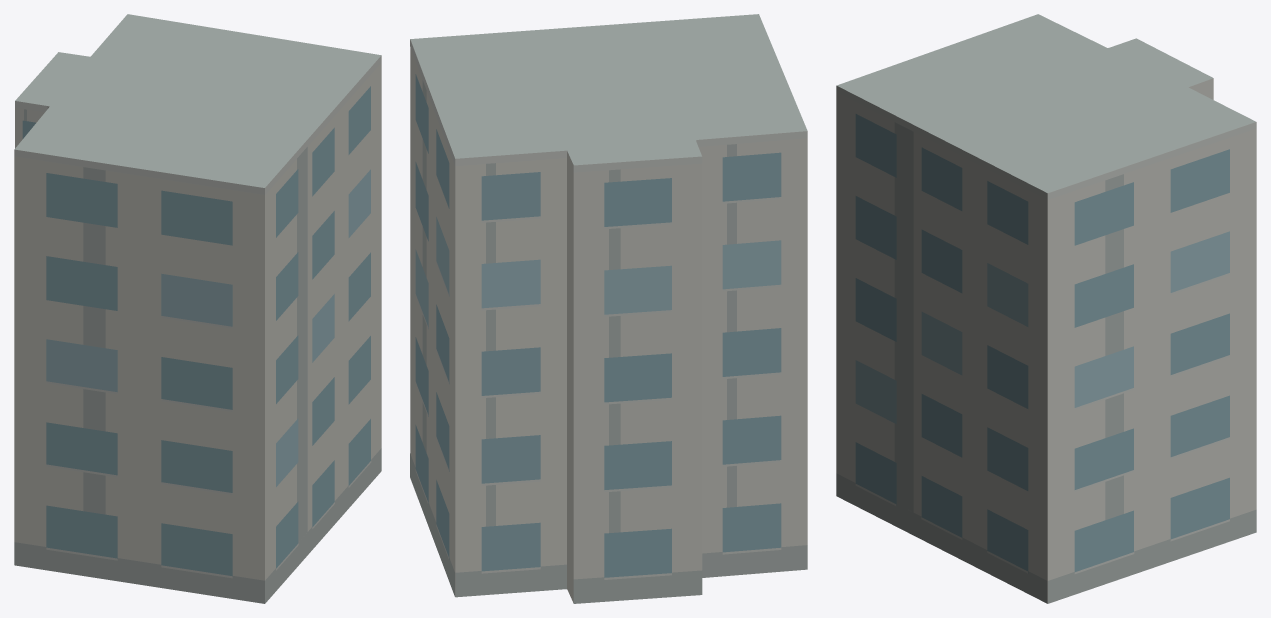
File: survey-upis-32679502.glb
3 views of the same model, side by side, from view 1: azimuth 30°, elevation 25°; view 2: azimuth 150°, elevation 25°; view 3: azimuth 270°, elevation 25° (orthographic). The views are drawn at different scales.
Parts seen in each view (by area): view 1: survey-upis-32679502.tmp; view 2: survey-upis-32679502.tmp; view 3: survey-upis-32679502.tmp.
Part boxes in pixels (left/top/right/bottom): survey-upis-32679502.tmp: left=14, top=14, right=381, bottom=603; survey-upis-32679502.tmp: left=410, top=14, right=807, bottom=603; survey-upis-32679502.tmp: left=836, top=14, right=1256, bottom=603.
Size of the model in its own units: 13.76 by 14.68 by 13.62.
